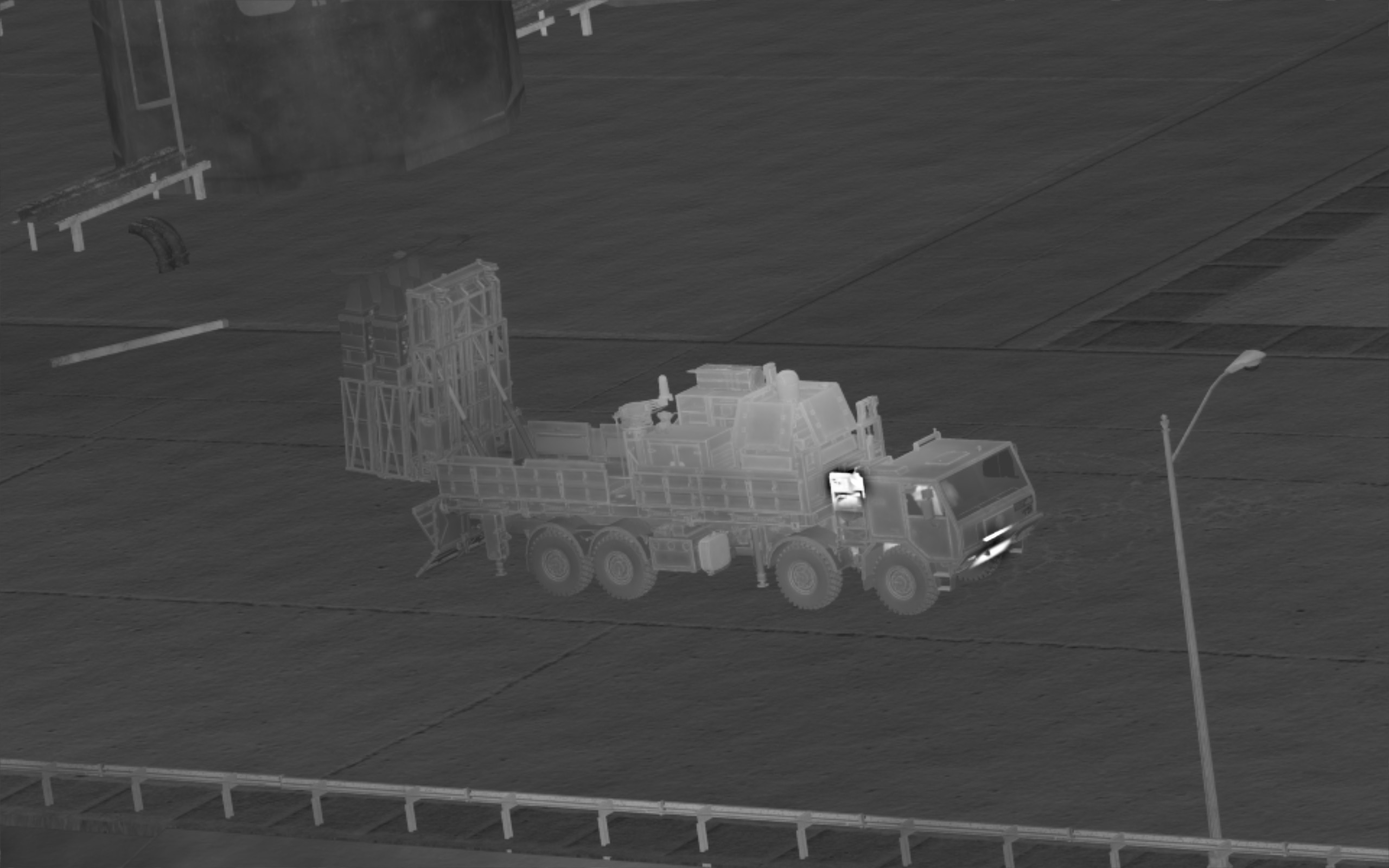spaa_TEL: (334, 254, 1041, 613)
